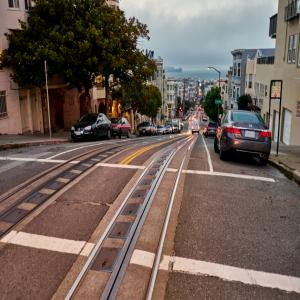Vehicle-registration-plate: (246, 130, 255, 142), (77, 132, 82, 137)
